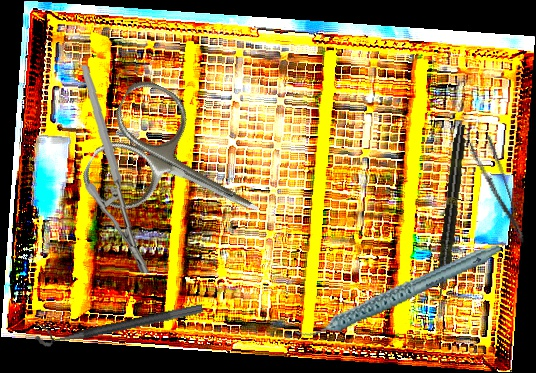Dressing Forceps: (467, 133, 527, 251)
Fixation Ring: (32, 289, 204, 350)
Handpiece: (285, 241, 511, 341), (432, 123, 469, 301)
Iris Scissors: (75, 73, 288, 268)
Needle Holder: (69, 64, 162, 274)
